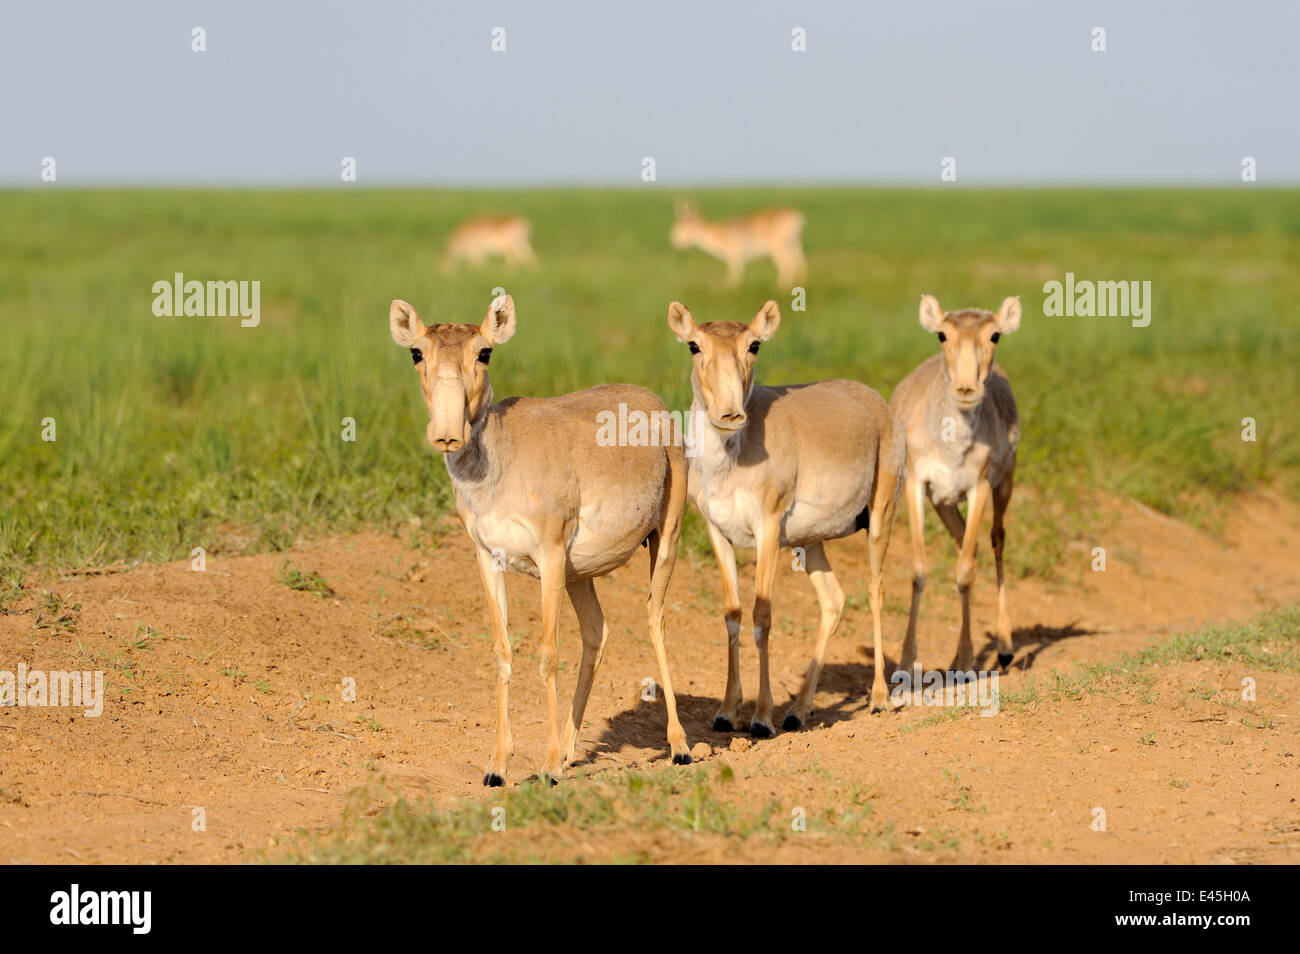saiga: (372, 286, 717, 786)
